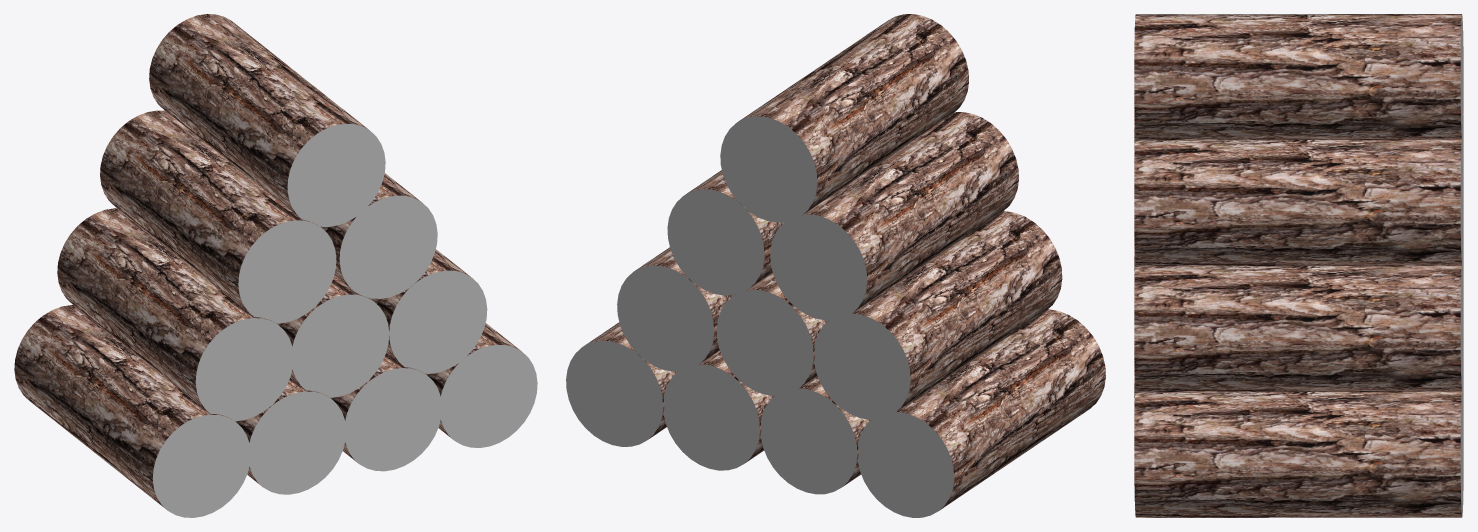
File: Buches.fbx
3 views of the same model, side by side, from view 1: azimuth 30°, elevation 25°; view 2: azimuth 150°, elevation 25°; view 3: azimuth 270°, elevation 25° (orthographic). The views are drawn at different scales.
Visible parts, largest first — view 1: Cylinder; view 2: Cylinder; view 3: Cylinder.
Part boxes in pixels (x1,y1,x2,y2): Cylinder: (14,14,537,517); Cylinder: (566,14,1105,517); Cylinder: (1134,14,1463,517).
Size of the model in its own units: 83.06 by 73.95 by 53.73.
